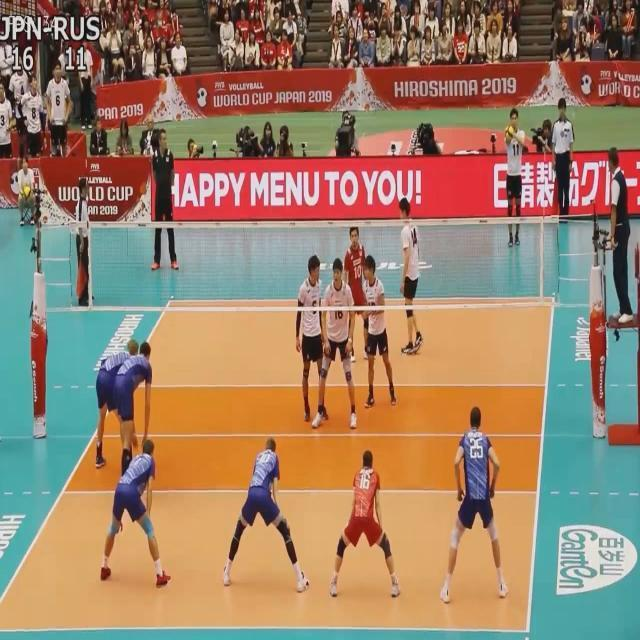volleyball: (504, 126, 514, 140)
